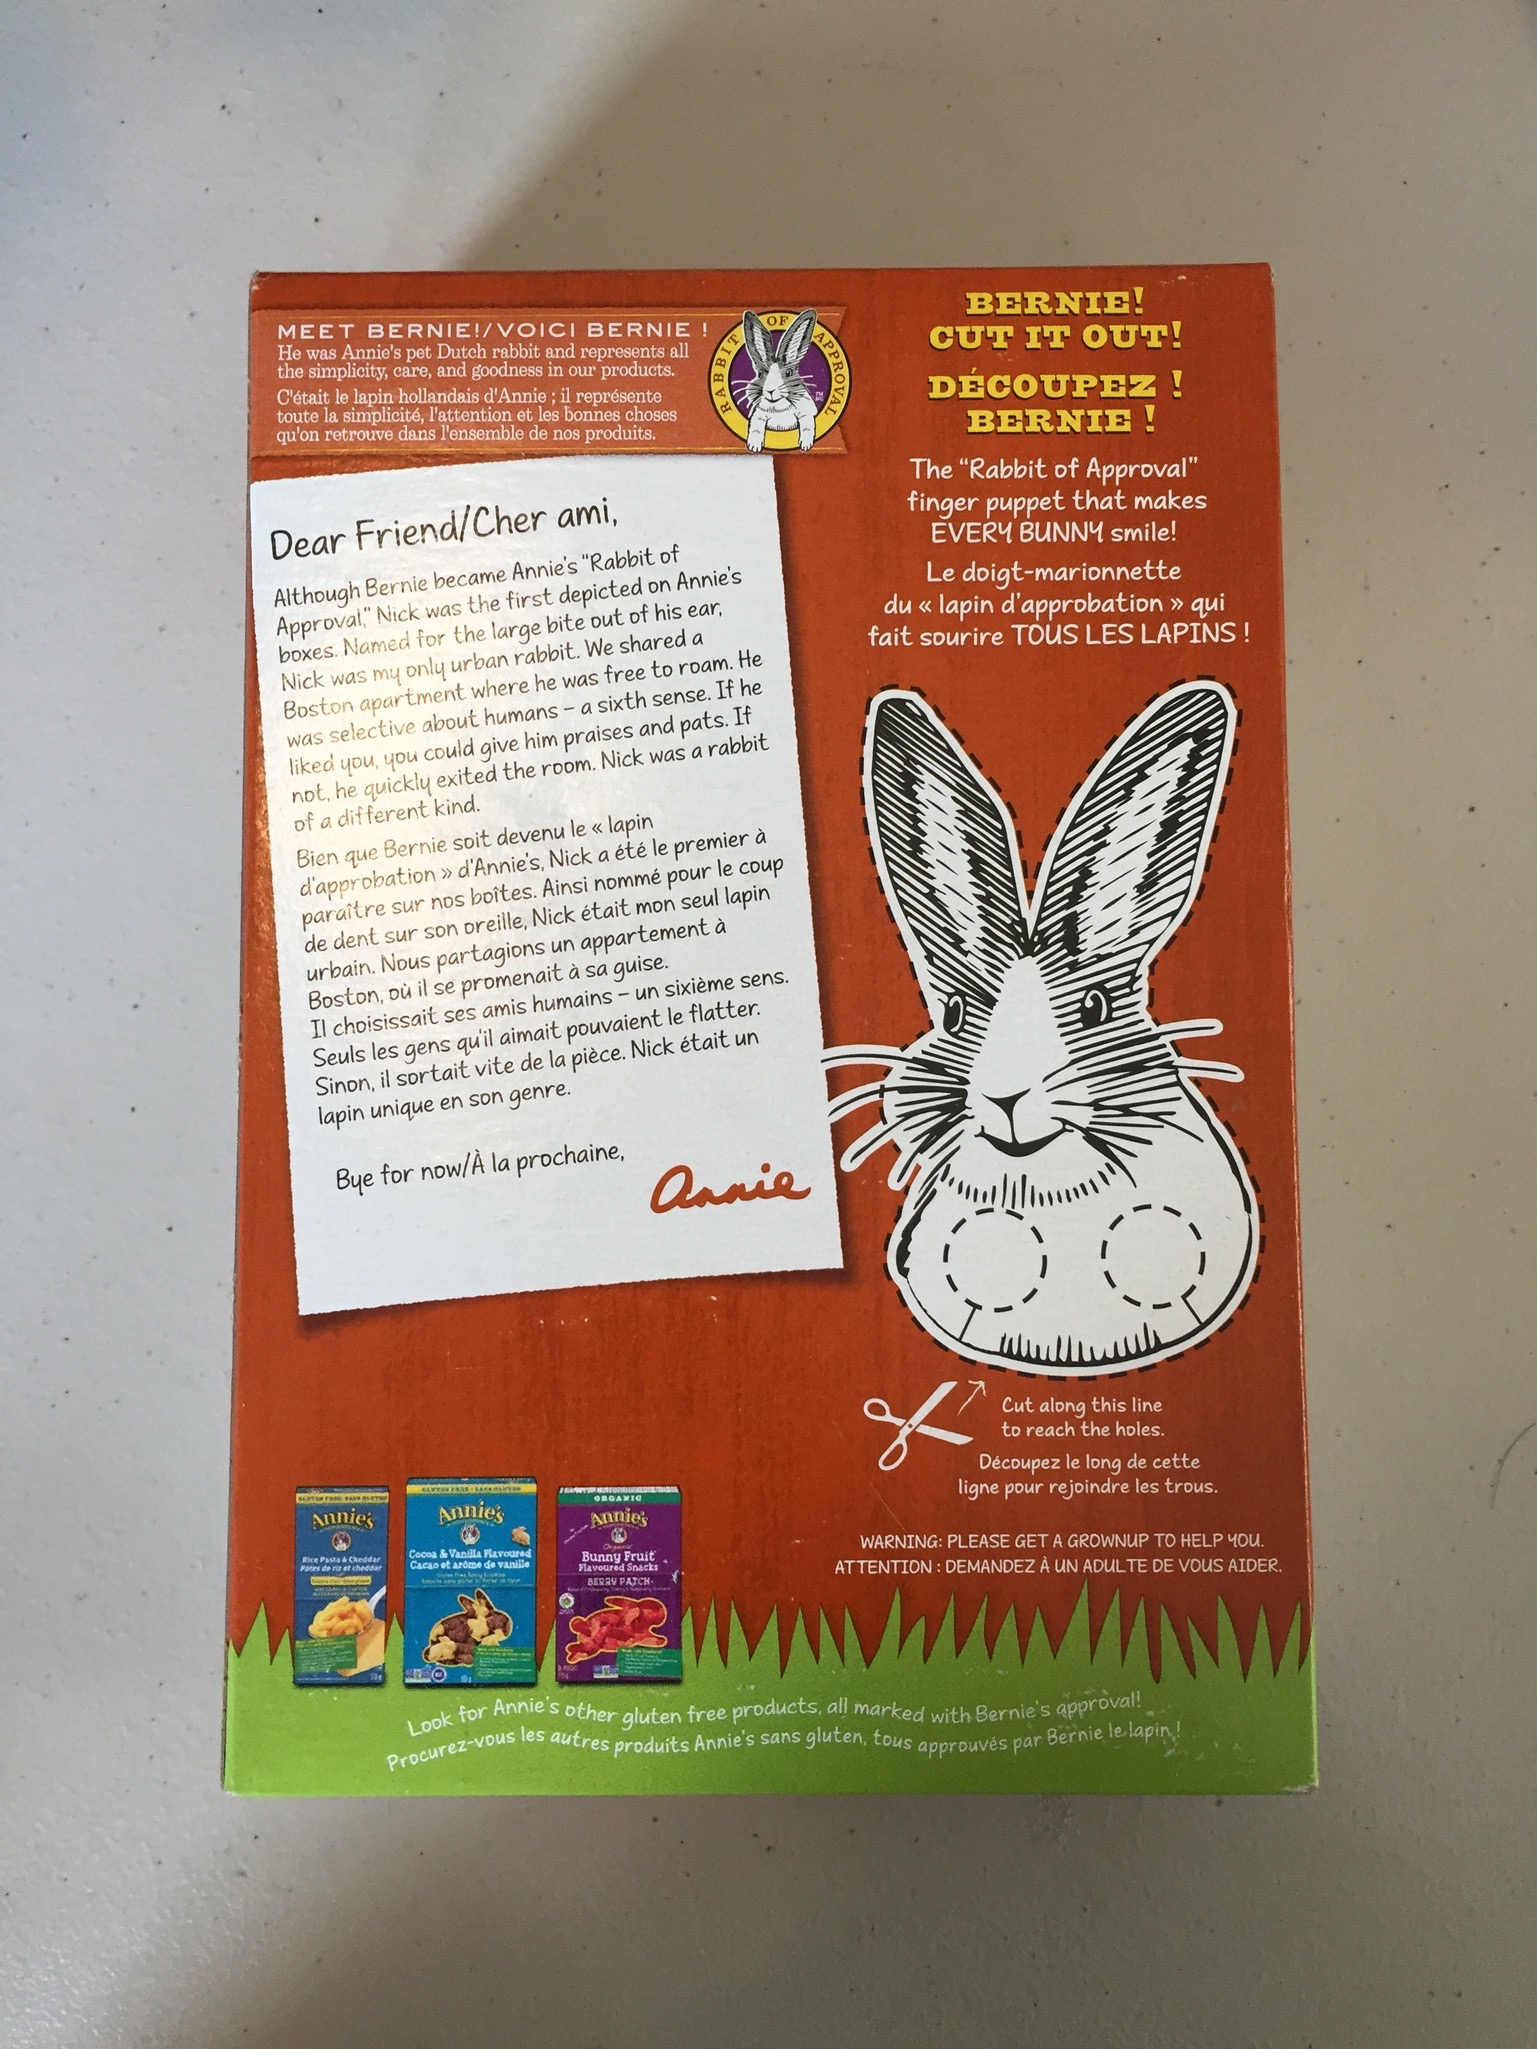annies_snickerdoodle_cinnamon_sugar: (253, 283, 1305, 1779)
